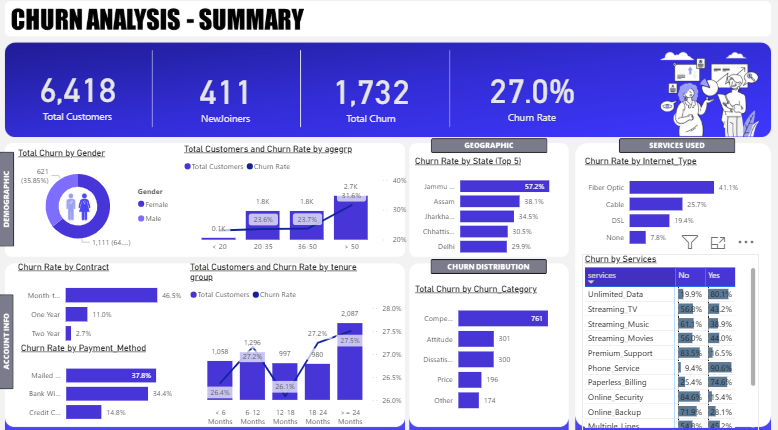

Layout of this report page (visuals, bound fields, positions):
{"tool":"powerbi","page":{"name":"summary","canvas":[1280,720],"ordinal":0},"visuals":[{"type":"image","box":[100,311.4,67.2,67.2],"z":0},{"type":"card","fields":{"Values":["TBL_VARIABLES.Total Customers"]},"box":[6.6,68.9,250.8,178.7],"z":1000},{"type":"card","fields":{"Values":["TBL_VARIABLES.NewJoiners"]},"box":[227.8,68.8,293.4,186.8],"z":2000},{"type":"card","fields":{"Values":["TBL_VARIABLES.Total Churn"]},"box":[478.6,73.8,268.8,175.4],"z":3000},{"type":"card","fields":{"Values":["TBL_VARIABLES.Churn Rate"]},"box":[732.6,70.5,288.5,180.3],"z":4000},{"type":"donutChart","fields":{"Category":["prod_Churn.Gender"],"Y":["TBL_VARIABLES.Total Churn"]},"box":[29.5,249.1,267.1,173.7],"z":5000},{"type":"lineStackedColumnComboChart","fields":{"Category":["MAPPING_AGEGRP.agegrp"],"Y":["TBL_VARIABLES.Total Customers"],"Y2":["TBL_VARIABLES.Churn Rate"]},"box":[301.6,242.6,375.3,186.8],"z":6000},{"type":"clusteredBarChart","fields":{"Category":["prod_Churn.Payment_Method"],"Y":["TBL_VARIABLES.Churn Rate"]},"box":[34.4,568.7,265.5,142.6],"z":7000},{"type":"clusteredBarChart","fields":{"Category":["prod_Churn.Contract"],"Y":["TBL_VARIABLES.Churn Rate"]},"box":[29.5,436,278.6,147.5],"z":8000},{"type":"lineStackedColumnComboChart","fields":{"Category":["mapping_tenuregrp.tenure group"],"Y":["TBL_VARIABLES.Total Customers"],"Y2":["TBL_VARIABLES.Churn Rate"]},"box":[311.4,436,357.3,277],"z":9000},{"type":"clusteredBarChart","title":"Churn Rate by State (Top 5)","fields":{"Category":["prod_Churn.State"],"Y":["TBL_VARIABLES.Churn Rate"]},"box":[680.2,262.2,263.9,173.7],"z":10000},{"type":"clusteredBarChart","fields":{"Category":["prod_Churn.Internet_Type"],"Y":["TBL_VARIABLES.Churn Rate"]},"box":[958.8,262.2,265.5,160.6],"z":11000},{"type":"clusteredBarChart","fields":{"Category":["prod_Churn.Churn_Category"],"Y":["TBL_VARIABLES.Total Churn"]},"box":[680.3,472.1,252.5,223],"z":14000},{"type":"pivotTable","title":"Churn by Services","fields":{"Rows":["prod_services.services"],"Columns":["prod_services.status"],"Values":["Sum(prod_services.churn_status)"]},"box":[958.8,422.8,290.1,290.1],"z":15000}]}

Visuals, with their boxes in screenshot pixels (x1, y1, x2, y2), scaled from the page's 1280x720 canvas onto the 778x430 screenshot:
image: {"x1": 61, "y1": 186, "x2": 102, "y2": 226}
card - TBL_VARIABLES.Total Customers: {"x1": 4, "y1": 41, "x2": 156, "y2": 148}
card - TBL_VARIABLES.NewJoiners: {"x1": 138, "y1": 41, "x2": 317, "y2": 153}
card - TBL_VARIABLES.Total Churn: {"x1": 291, "y1": 44, "x2": 454, "y2": 149}
card - TBL_VARIABLES.Churn Rate: {"x1": 445, "y1": 42, "x2": 621, "y2": 150}
donutChart - prod_Churn.Gender x TBL_VARIABLES.Total Churn: {"x1": 18, "y1": 149, "x2": 180, "y2": 253}
lineStackedColumnComboChart - MAPPING_AGEGRP.agegrp x TBL_VARIABLES.Total Customers: {"x1": 183, "y1": 145, "x2": 411, "y2": 256}
clusteredBarChart - prod_Churn.Payment_Method x TBL_VARIABLES.Churn Rate: {"x1": 21, "y1": 340, "x2": 182, "y2": 425}
clusteredBarChart - prod_Churn.Contract x TBL_VARIABLES.Churn Rate: {"x1": 18, "y1": 260, "x2": 187, "y2": 348}
lineStackedColumnComboChart - mapping_tenuregrp.tenure group x TBL_VARIABLES.Total Customers: {"x1": 189, "y1": 260, "x2": 406, "y2": 426}
"Churn Rate by State (Top 5)" clusteredBarChart: {"x1": 413, "y1": 157, "x2": 574, "y2": 260}
clusteredBarChart - prod_Churn.Internet_Type x TBL_VARIABLES.Churn Rate: {"x1": 583, "y1": 157, "x2": 744, "y2": 253}
clusteredBarChart - prod_Churn.Churn_Category x TBL_VARIABLES.Total Churn: {"x1": 413, "y1": 282, "x2": 567, "y2": 415}
"Churn by Services" pivotTable: {"x1": 583, "y1": 253, "x2": 759, "y2": 426}
